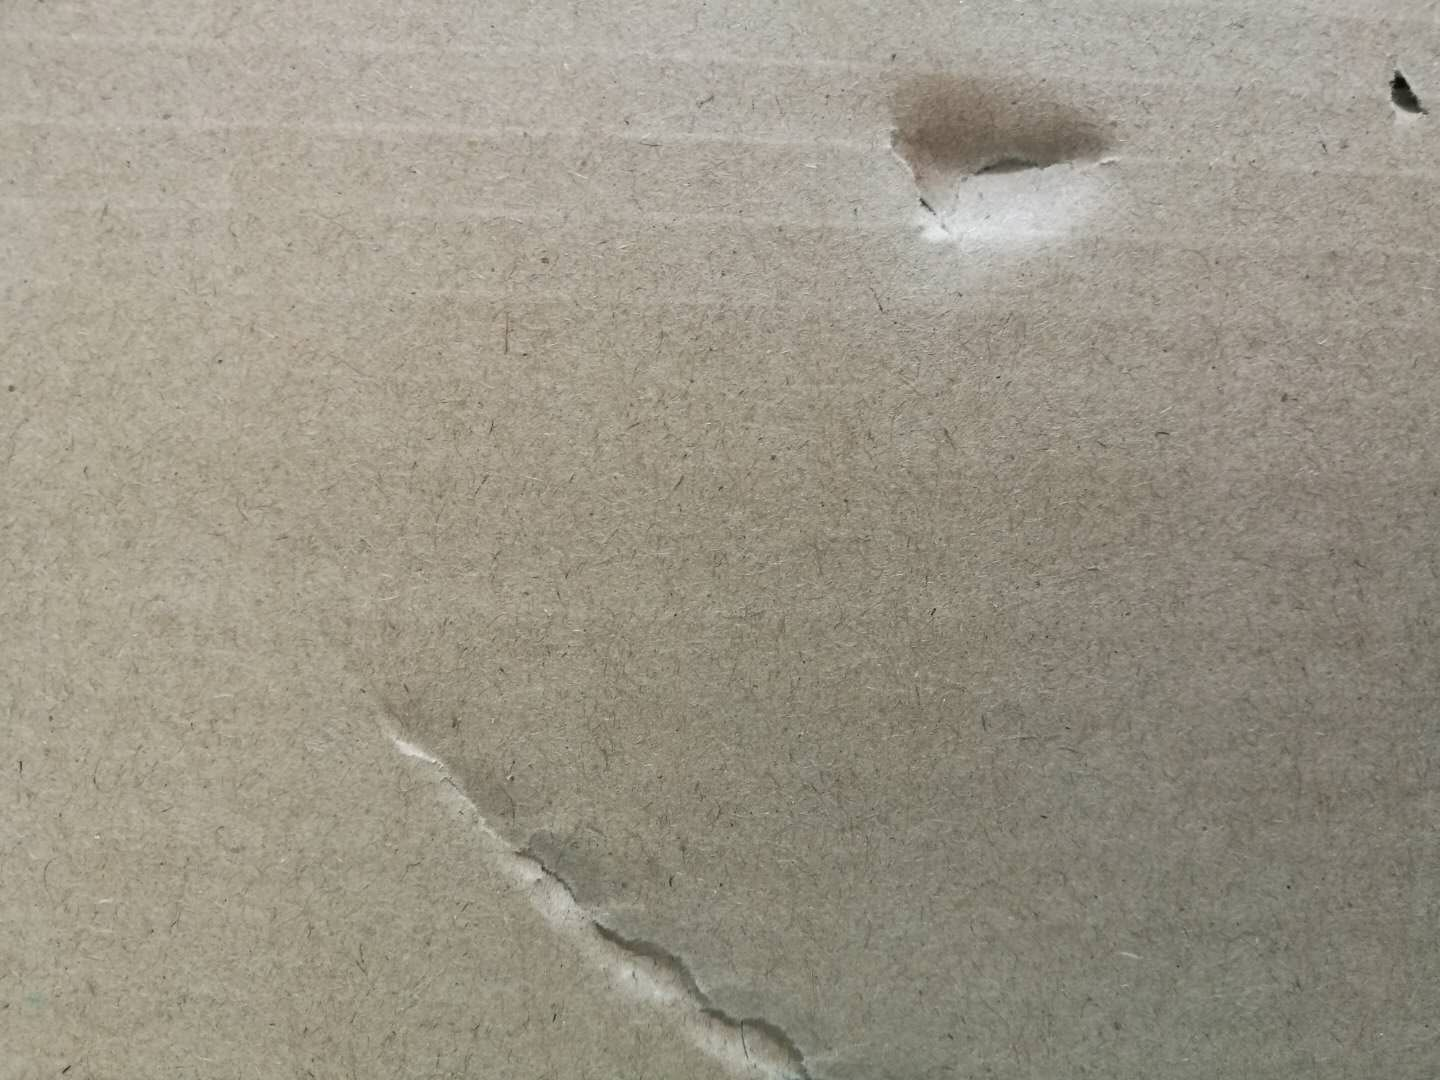defect: (347, 649, 859, 1080), (842, 49, 1157, 312), (1355, 35, 1440, 150)
